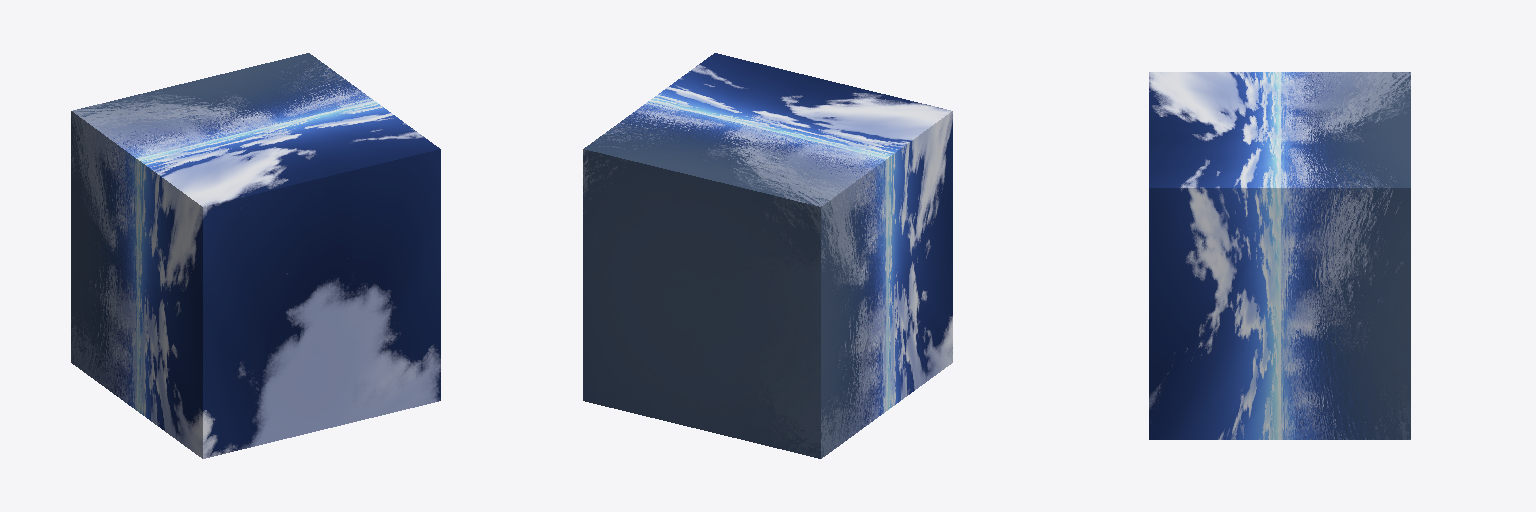
The picture shows the model from 3 angles: view 1: azimuth 30°, elevation 25°; view 2: azimuth 150°, elevation 25°; view 3: azimuth 270°, elevation 25°; orthographic projection.
Parts seen in each view (by area): view 1: Box001; view 2: Box001; view 3: Box001.
Part boxes in pixels (x1,y1,x2,y2): Box001: (71, 53, 440, 458); Box001: (583, 53, 952, 458); Box001: (1149, 72, 1410, 439).
Size of the model in its own units: 3170 by 3211 by 3034.
Materials: 6 (6 with a texture image).